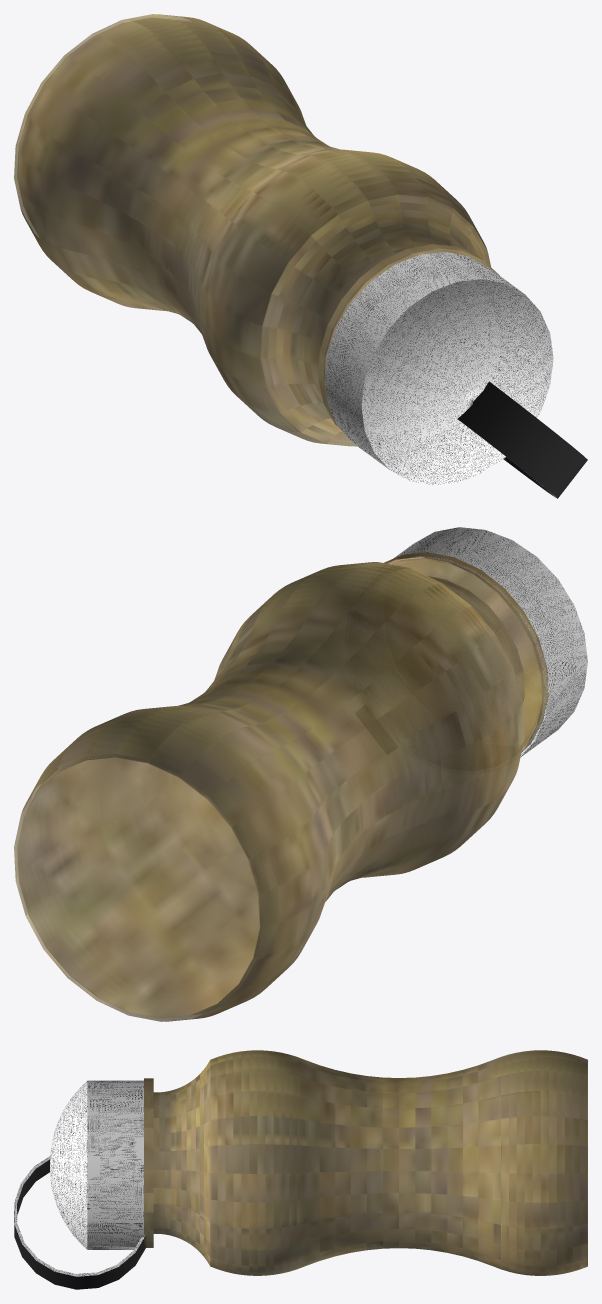
The model's file is model_align.obj.
3 renders of one model, top to bottom at view 1: azimuth 30°, elevation 25°; view 2: azimuth 150°, elevation 25°; view 3: azimuth 270°, elevation 25°, orthographic. The views are drawn at different scales.
Parts seen in each view (by area): view 1: mesh5_mesh5-geometry, mesh1_mesh1-geometry; view 2: mesh5_mesh5-geometry, mesh1_mesh1-geometry; view 3: mesh5_mesh5-geometry, mesh1_mesh1-geometry.
Part boxes in pixels (left/top/right/bottom): mesh5_mesh5-geometry: left=14, top=14, right=499, bottom=446; mesh1_mesh1-geometry: left=324, top=252, right=587, bottom=498; mesh5_mesh5-geometry: left=14, top=552, right=548, bottom=1021; mesh1_mesh1-geometry: left=391, top=527, right=587, bottom=756; mesh5_mesh5-geometry: left=144, top=1050, right=587, bottom=1275; mesh1_mesh1-geometry: left=14, top=1080, right=145, bottom=1289.
Bounding box in the file's own units: 0.0908 × 0.0908 × 0.2306.
